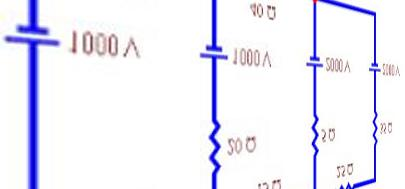resistor: (190, 111, 224, 184), (301, 105, 322, 162)
